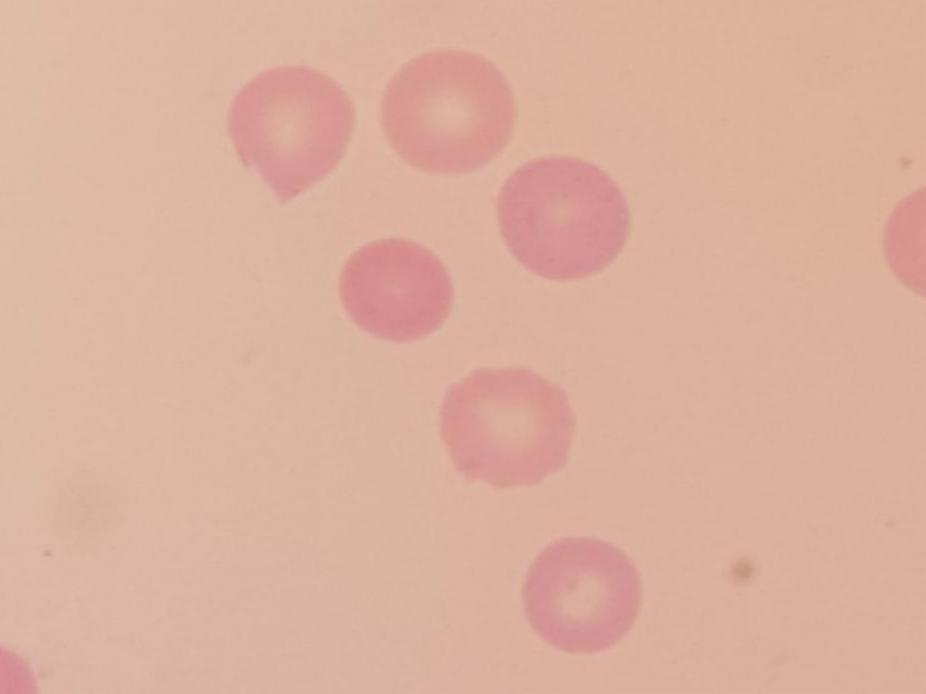Uninfected: (230, 66, 357, 208), (377, 51, 517, 172), (442, 362, 573, 489), (498, 156, 628, 279), (518, 536, 646, 655), (337, 234, 456, 342)
